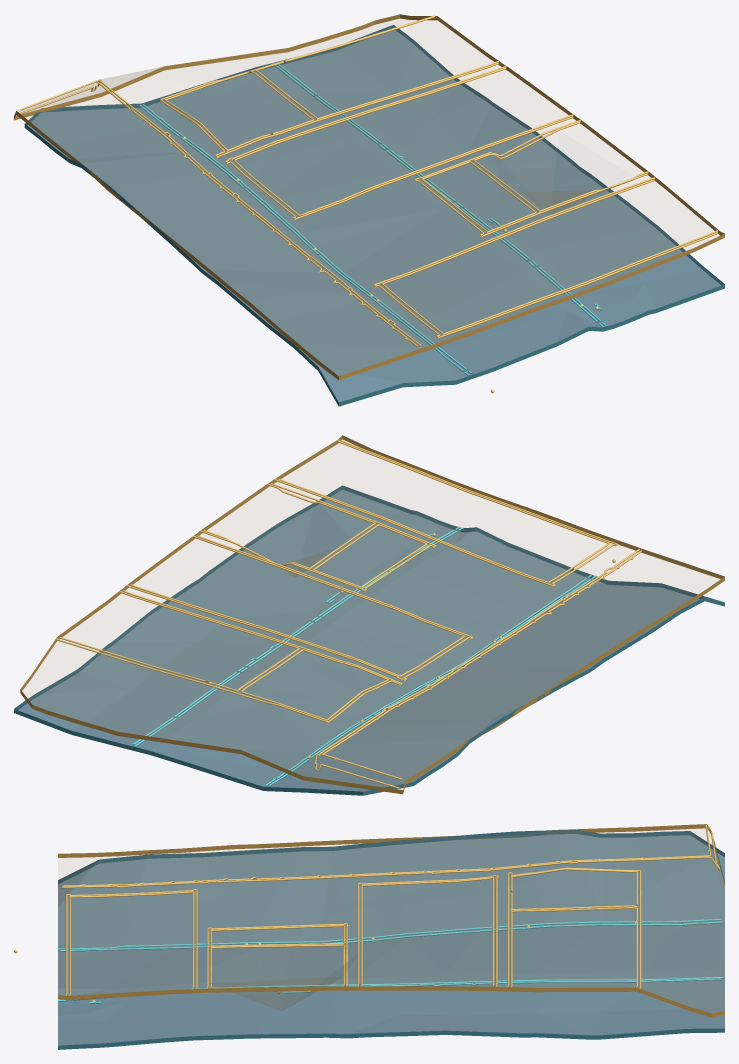
Rendered from hongyang-coal12-georef.glb.
The picture shows the model from 3 angles, top to bottom: view 1: azimuth 30°, elevation 25°; view 2: azimuth 150°, elevation 25°; view 3: azimuth 270°, elevation 25°; orthographic projection.
Visible parts, largest first — view 1: Coal12_Interpolated_Surface, Coal7_Edges, Coal12_Edges, Coal7_Interpolated_Surface, Coal7_CAD_791_49, Coal7_CAD_756_8, Coal7_CAD_759_11, Coal7_CAD_752_4, Coal7_CAD_750_2, Coal7_CAD_75F_17; view 2: Coal12_Interpolated_Surface, Coal7_Edges, Coal12_Edges, Coal7_CAD_791_49, Coal7_CAD_759_11, Coal7_CAD_752_4, Coal7_CAD_779_42, Coal7_CAD_75F_17, Coal7_CAD_756_8, Coal7_CAD_750_2, Coal7_CAD_75C_14; view 3: Coal12_Interpolated_Surface, Coal7_Edges, Coal12_Edges, Coal7_Interpolated_Surface, Coal7_CAD_791_49, Coal7_CAD_75C_14.
Part boxes in pixels (left/top/right/bottom): Coal12_Interpolated_Surface: left=25, top=25, right=724, bottom=402; Coal7_Edges: left=14, top=14, right=724, bottom=380; Coal12_Edges: left=24, top=25, right=724, bottom=406; Coal7_Interpolated_Surface: left=17, top=67, right=619, bottom=214; Coal7_CAD_791_49: left=233, top=67, right=573, bottom=216; Coal7_CAD_756_8: left=438, top=232, right=717, bottom=338; Coal7_CAD_759_11: left=374, top=177, right=655, bottom=285; Coal7_CAD_752_4: left=443, top=230, right=718, bottom=334; Coal7_CAD_750_2: left=382, top=179, right=654, bottom=284; Coal7_CAD_75F_17: left=232, top=66, right=506, bottom=159; Coal12_Interpolated_Surface: left=14, top=485, right=720, bottom=791; Coal7_Edges: left=20, top=435, right=724, bottom=794; Coal12_Edges: left=14, top=486, right=724, bottom=795; Coal7_CAD_791_49: left=130, top=536, right=465, bottom=677; Coal7_CAD_759_11: left=274, top=479, right=553, bottom=586; Coal7_CAD_752_4: left=337, top=440, right=609, bottom=543; Coal7_CAD_779_42: left=56, top=638, right=328, bottom=722; Coal7_CAD_75F_17: left=127, top=585, right=398, bottom=677; Coal7_CAD_756_8: left=341, top=440, right=617, bottom=544; Coal7_CAD_750_2: left=278, top=479, right=548, bottom=583; Coal7_CAD_75C_14: left=200, top=530, right=430, bottom=591; Coal12_Interpolated_Surface: left=58, top=829, right=724, bottom=1045; Coal7_Edges: left=58, top=824, right=724, bottom=1017; Coal12_Edges: left=58, top=830, right=724, bottom=1049; Coal7_Interpolated_Surface: left=209, top=977, right=342, bottom=1009; Coal7_CAD_791_49: left=360, top=877, right=494, bottom=986; Coal7_CAD_75C_14: left=211, top=923, right=348, bottom=986.
Size of the model in its own units: 576 by 135 by 912.
